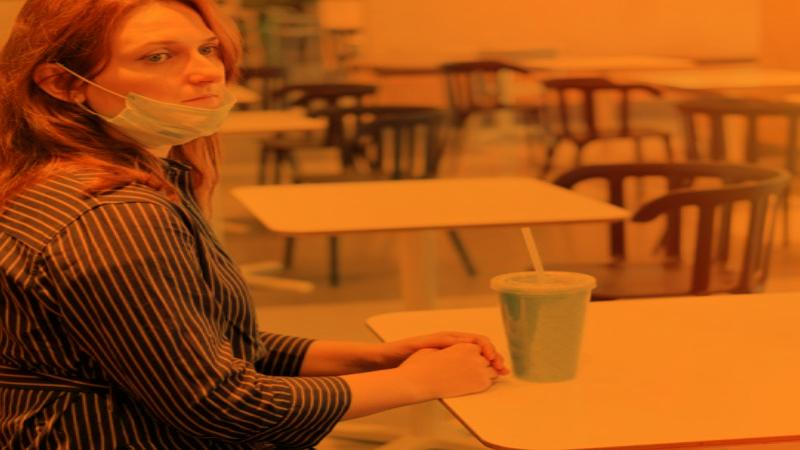mask_weared_incorrect: (0, 1, 234, 148)
